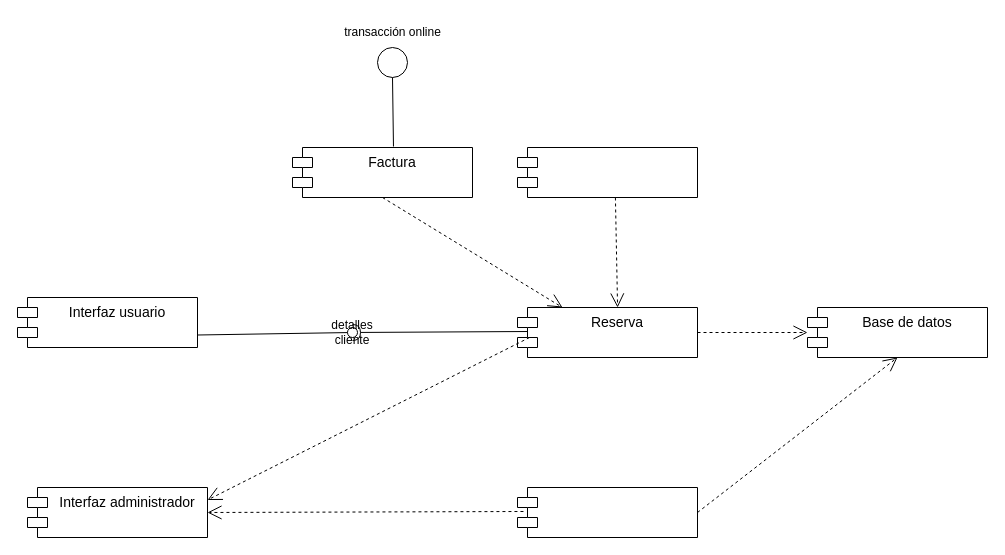
Some shapes in this 1005 by 555 pixel diagram are drawn without their labels. Each missing label, with the box of its shape:
Gestión habitaciones: (516, 486, 698, 538)
Habitación: (516, 146, 698, 198)
